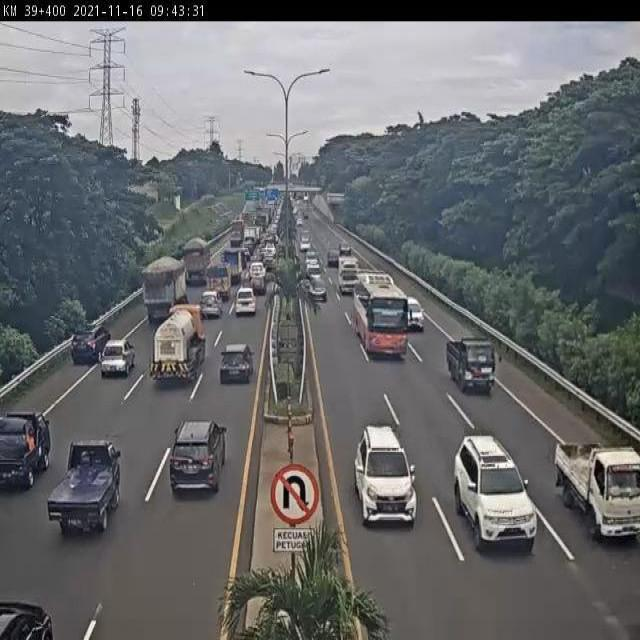car: (455, 432, 537, 551), (551, 438, 640, 542), (47, 438, 121, 538), (353, 423, 417, 531), (168, 420, 229, 499), (0, 411, 52, 501), (446, 338, 498, 394), (69, 323, 111, 369), (217, 345, 255, 392), (97, 340, 136, 381), (398, 295, 424, 329), (235, 287, 258, 317), (198, 291, 221, 320), (250, 263, 268, 291)
truck: (353, 271, 410, 360), (152, 303, 208, 387), (143, 254, 193, 330), (180, 239, 211, 288), (204, 263, 231, 300)
